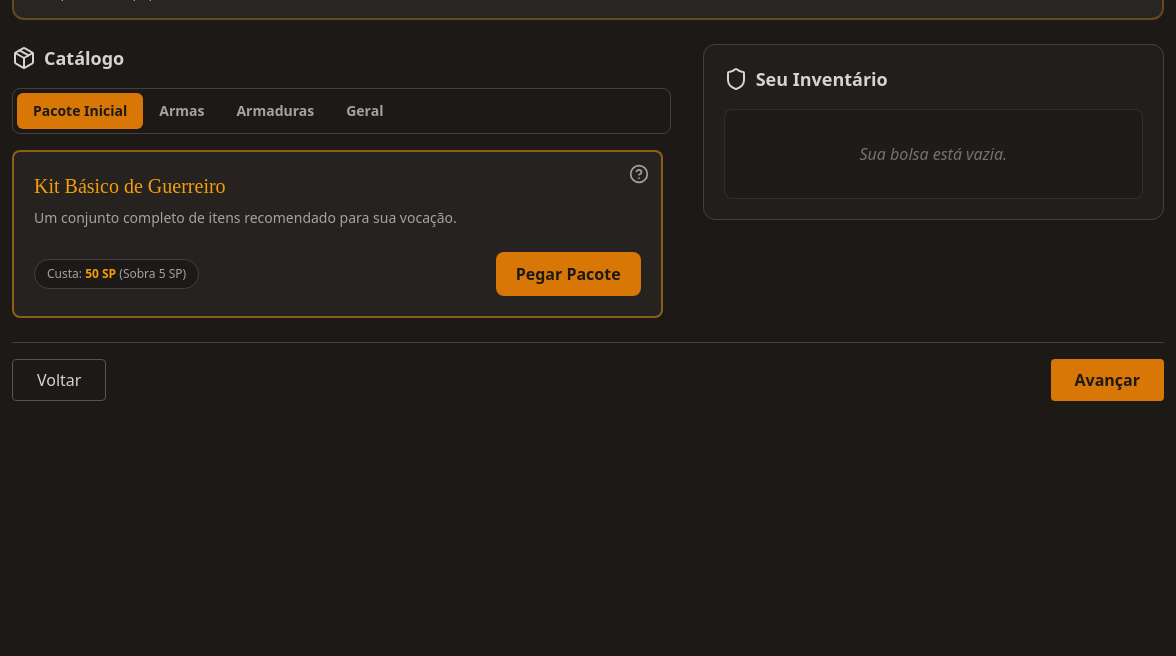
Test: comprar e vender › o mesmo item pode ser comprado mais de uma vez
The width and height of the screenshot is (1176, 656).
Click the button "Armas".
click(182, 111)  # box x1=143 y1=93 x2=220 y2=129
(page scrolled)
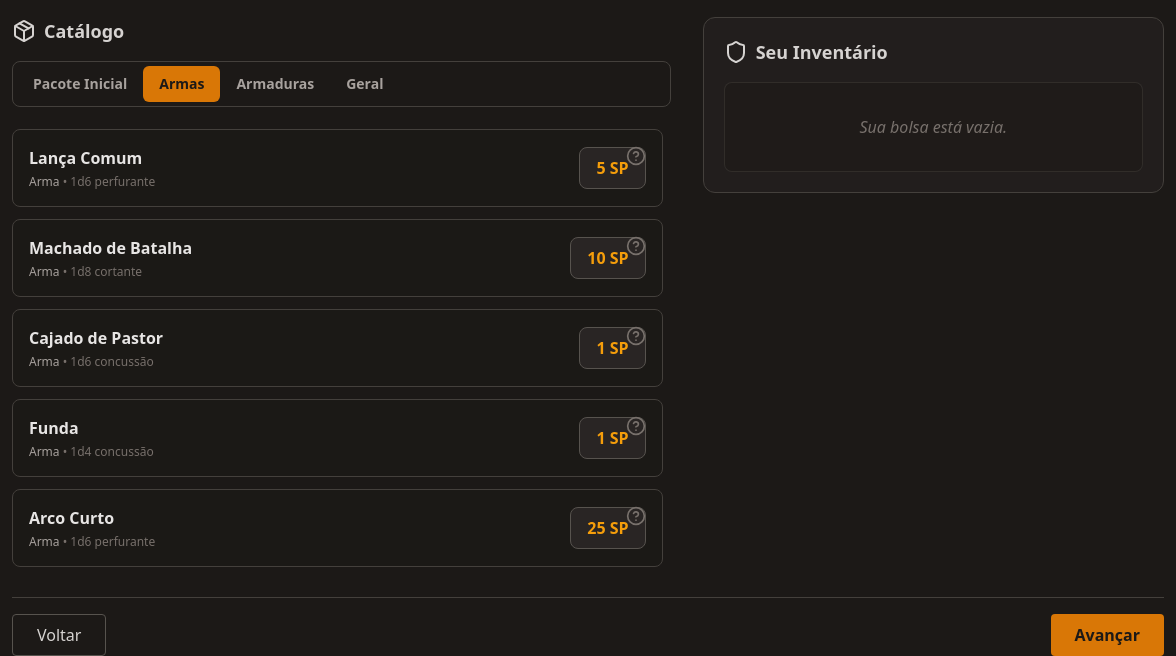
Click the button "1 SP" in the row of "Cajado de Pastor".
click(613, 348)  # box x1=580 y1=327 x2=646 y2=369
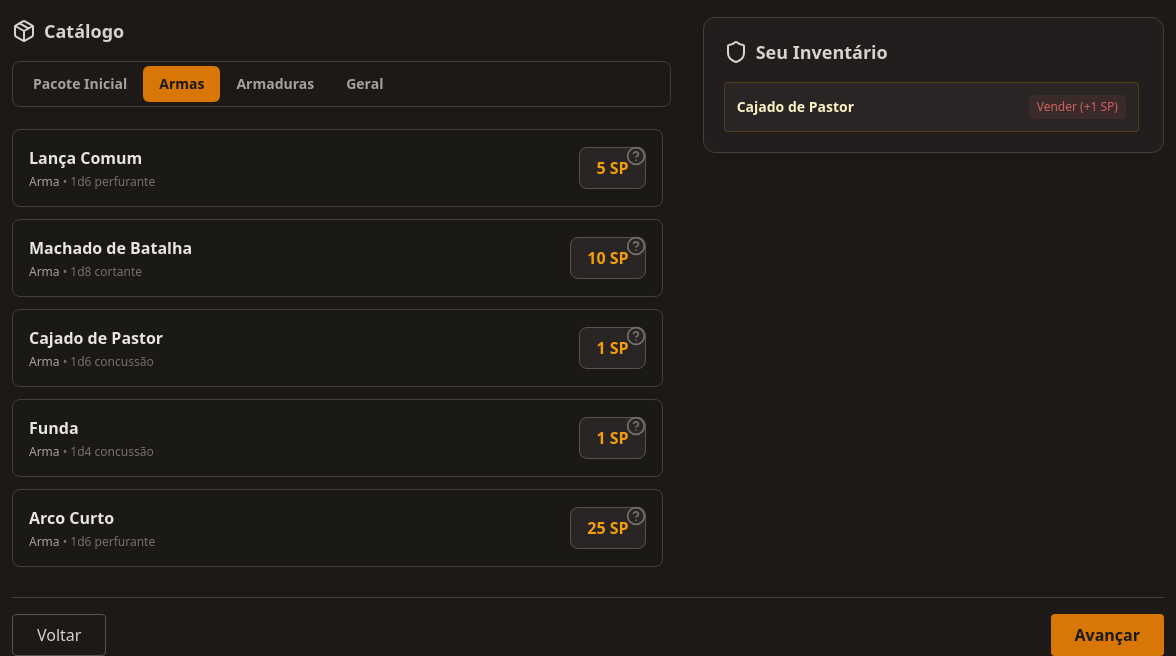
Click the button "1 SP" in the row of "• 1d6 concussão".
click(613, 348)  # box x1=580 y1=327 x2=646 y2=369
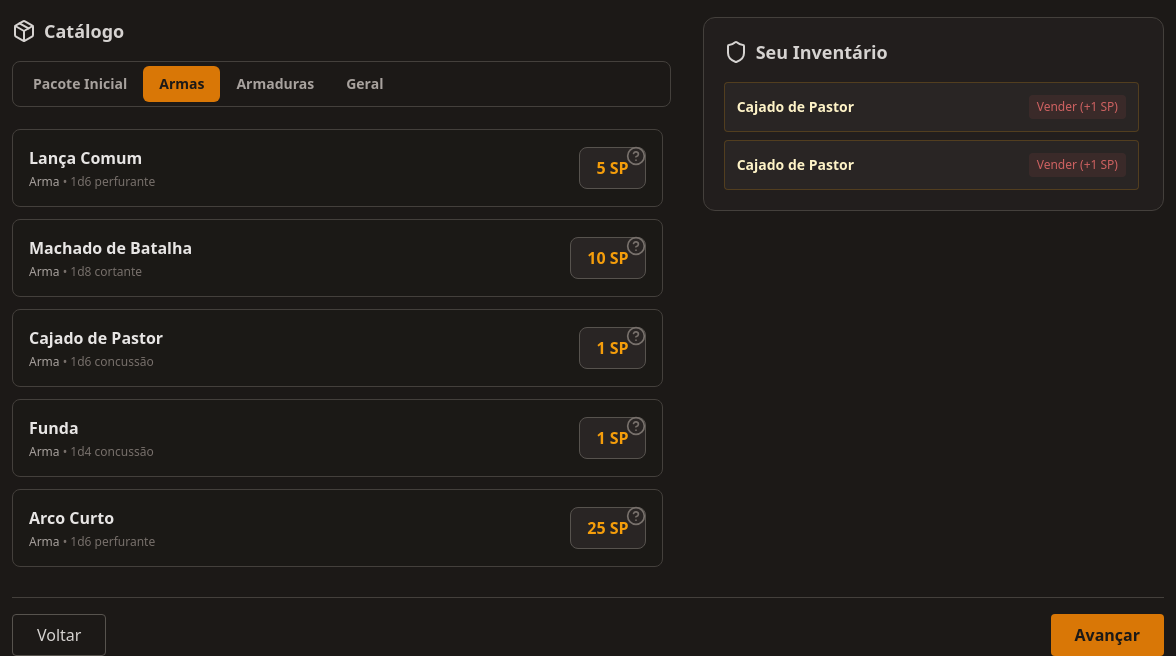
Result: the number of headings "Cajado de Pastor" is 2 at x1=737 y1=97 x2=854 y2=117; x1=737 y1=155 x2=854 y2=175
